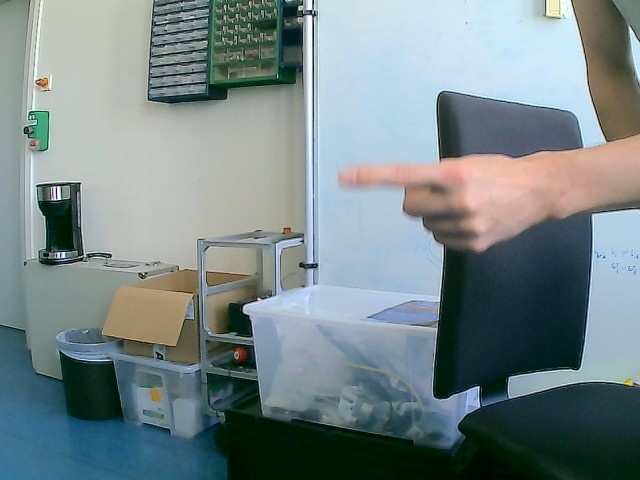right: (337, 151, 552, 255)
